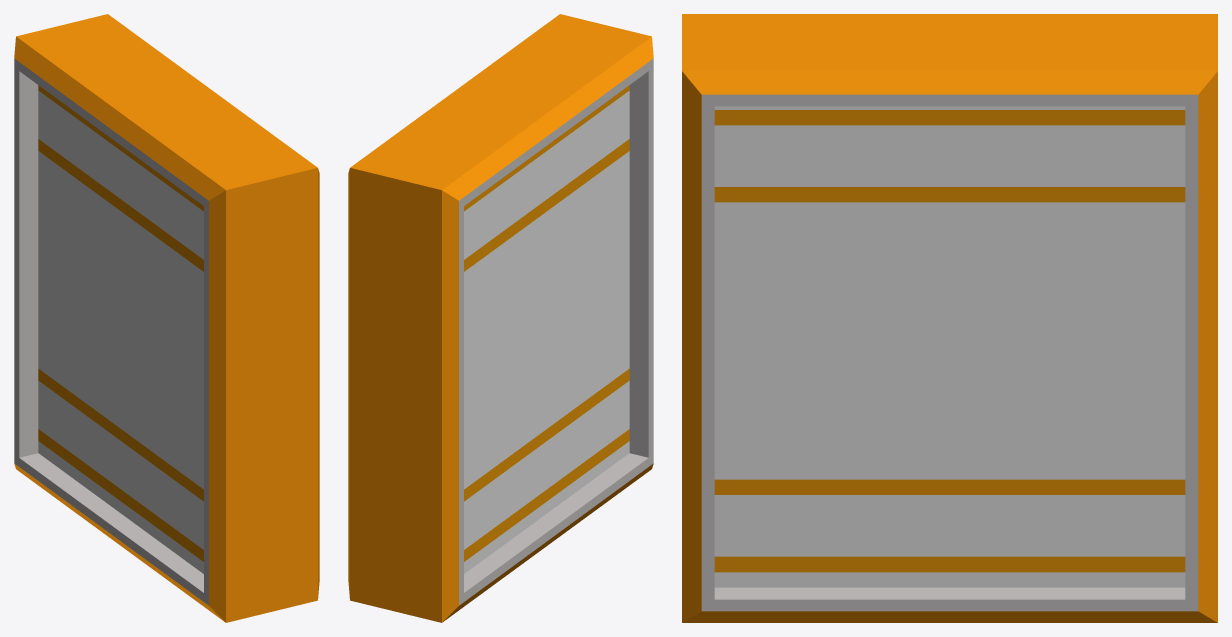
Rendered from Door1.fbx.
3 views of the same model, side by side, from view 1: azimuth 30°, elevation 25°; view 2: azimuth 150°, elevation 25°; view 3: azimuth 270°, elevation 25° (orthographic). The views are drawn at different scales.
Parts seen in each view (by area): view 1: Cube; view 2: Cube; view 3: Cube.
Boxes of the visible parts, x1=… form: Cube: x1=14, y1=14, x2=319, y2=622; Cube: x1=348, y1=14, x2=653, y2=622; Cube: x1=682, y1=14, x2=1217, y2=622.
Bounding box in the file's own units: 241 × 900 × 792.
